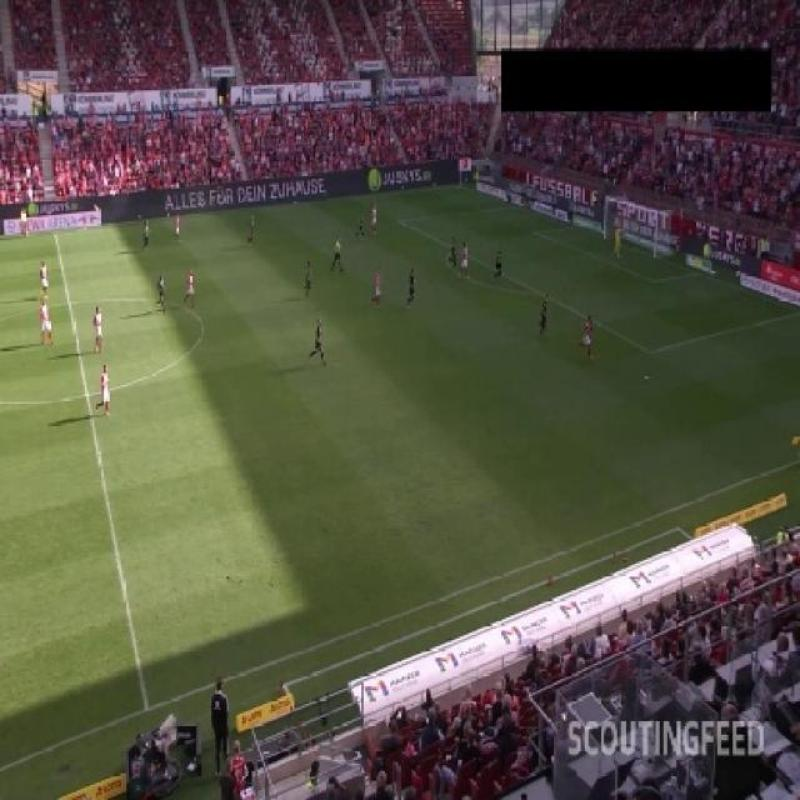1: (450, 174, 471, 190)
11: (524, 280, 544, 300)
12: (638, 338, 658, 362)
13: (45, 220, 66, 245)
14: (56, 286, 76, 314)
15: (72, 377, 96, 408)
16: (130, 692, 164, 722)
2: (507, 197, 525, 215)
3: (565, 220, 581, 232)
4: (692, 262, 710, 280)
7: (528, 224, 544, 241)
8: (644, 270, 662, 290)
9: (390, 210, 410, 229)
c: (186, 312, 217, 342)
